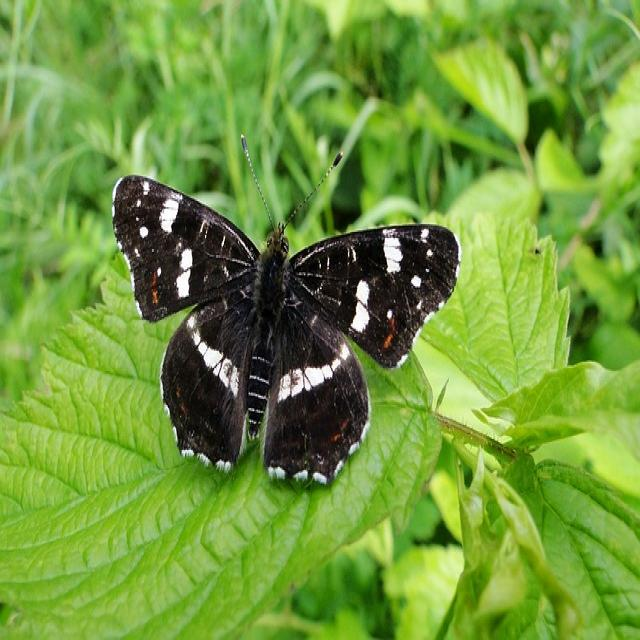butterfly: (112, 176, 459, 487)
